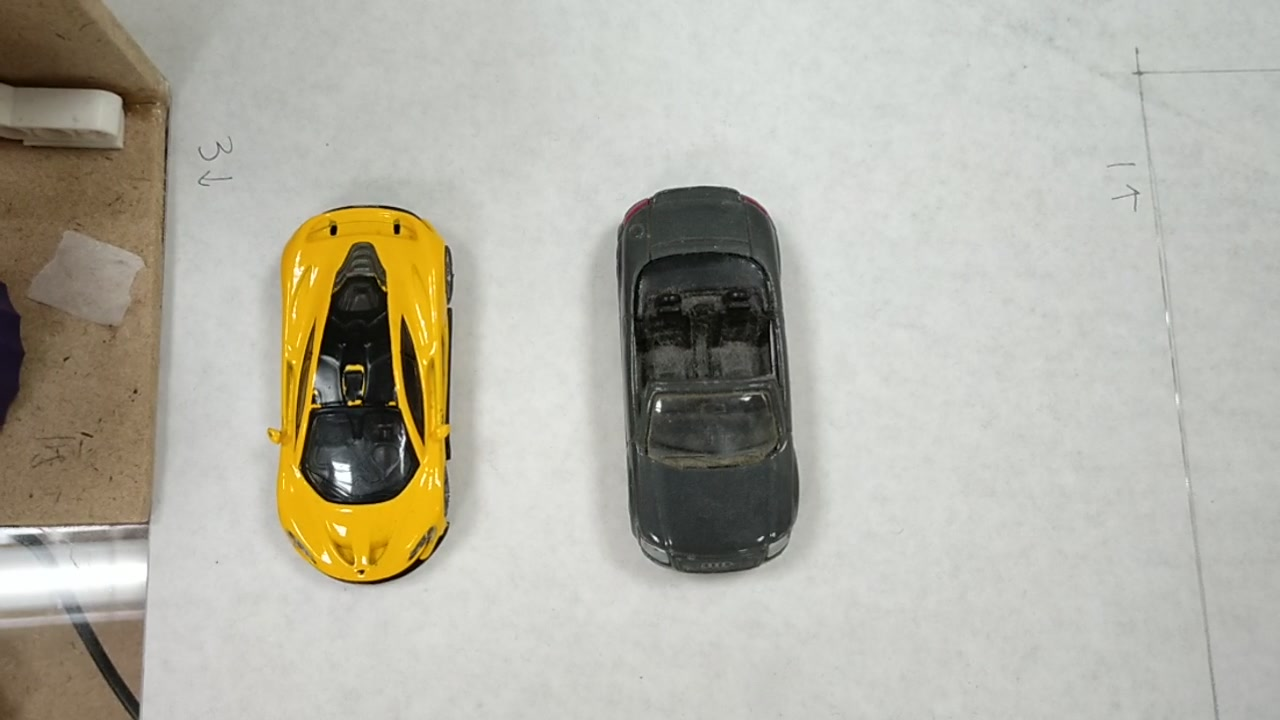car: (621, 186, 791, 582), (271, 221, 463, 571)
